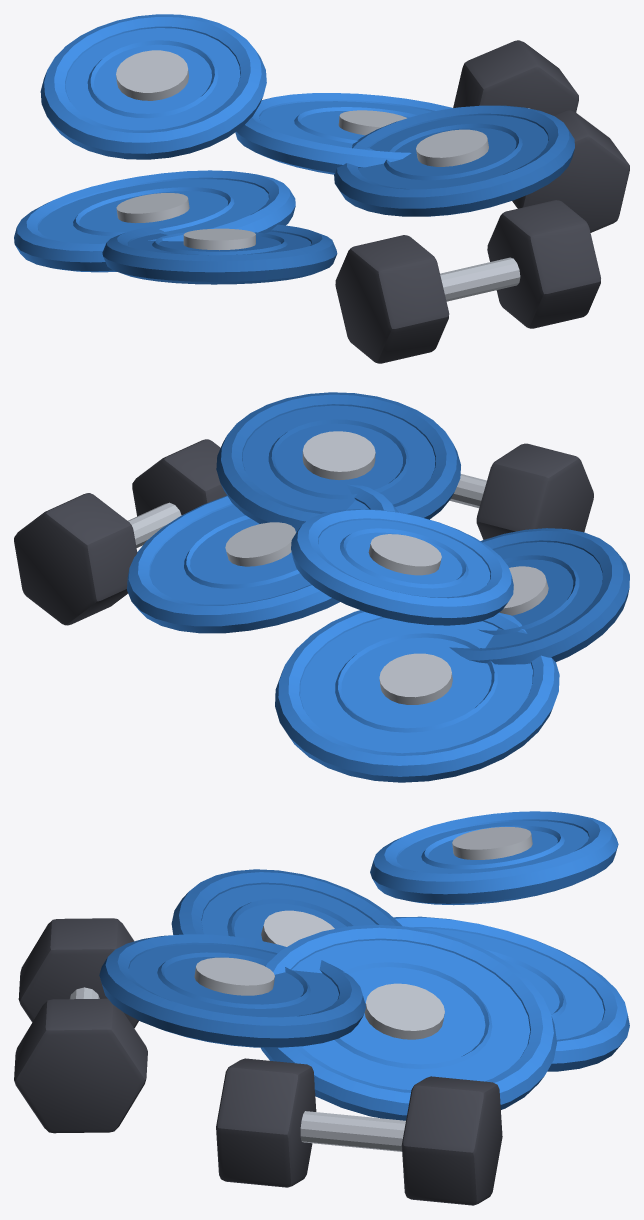
File: WeightPile.fbx
The picture shows the model from 3 angles, top to bottom: view 1: azimuth 30°, elevation 25°; view 2: azimuth 150°, elevation 25°; view 3: azimuth 270°, elevation 25°; orthographic projection. The views are drawn at different scales.
Visible parts, largest first — view 1: WeightPile_Body, WeightPile_Iron, WeightPile_Shade, WeightPile_Steel; view 2: WeightPile_Body, WeightPile_Shade, WeightPile_Iron, WeightPile_Steel; view 3: WeightPile_Body, WeightPile_Iron, WeightPile_Shade, WeightPile_Steel.
Boxes of the visible parts, x1=… form: WeightPile_Body: x1=14, y1=14, x2=453, y2=272; WeightPile_Iron: x1=335, y1=40, x2=629, y2=363; WeightPile_Shade: x1=102, y1=105, x2=574, y2=284; WeightPile_Steel: x1=116, y1=50, x2=529, y2=301; WeightPile_Body: x1=127, y1=484, x2=559, y2=782; WeightPile_Shade: x1=216, y1=392, x2=629, y2=664; WeightPile_Iron: x1=14, y1=439, x2=593, y2=625; WeightPile_Steel: x1=128, y1=431, x2=548, y2=704; WeightPile_Body: x1=261, y1=811, x2=629, y2=1120; WeightPile_Iron: x1=14, y1=918, x2=502, y2=1205; WeightPile_Shade: x1=99, y1=869, x2=402, y2=1047; WeightPile_Steel: x1=70, y1=827, x2=532, y2=1151.
Size of the model in its own units: 295 by 106 by 272.
